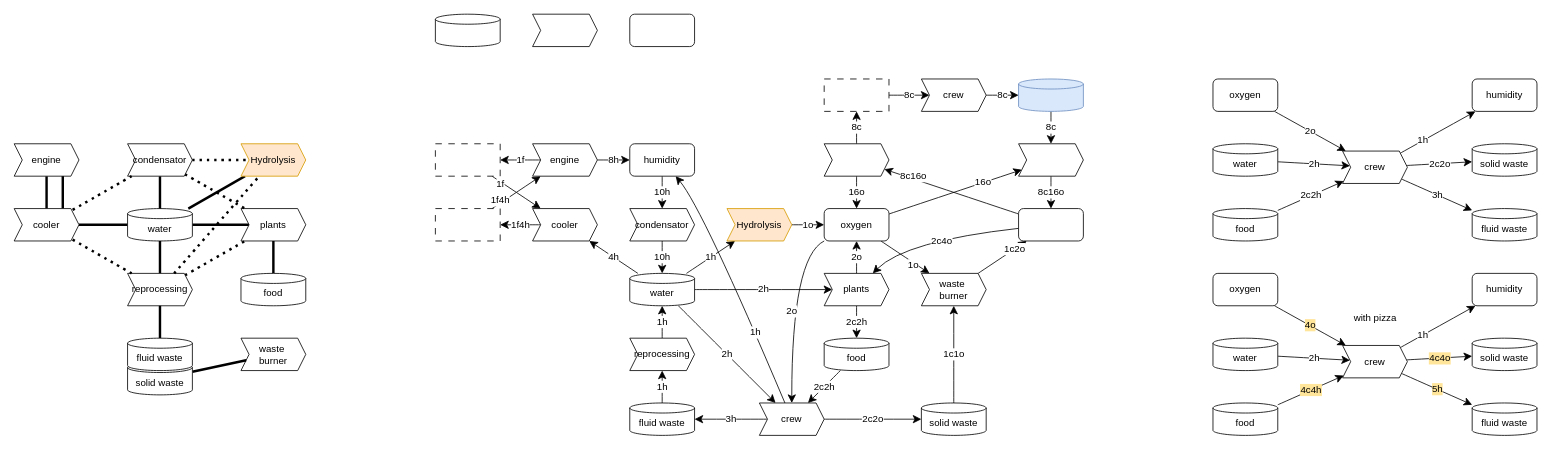
This 1551x450 diagram has some shape labels left out. Each missing label, with the centre of its shape:
"CO2" goes at pixel 1050 224.
"cold coolant" goes at pixel 467 224.
"container" goes at pixel 467 30.
"disposables" goes at pixel 856 94.
"floating resource" goes at pixel 662 30.
"garbage" goes at pixel 1050 94.
"garbage burner" goes at pixel 1050 159.
"hot coolant" goes at pixel 467 159.
"machine / process" goes at pixel 564 30.
"scrubber" goes at pixel 856 159.
